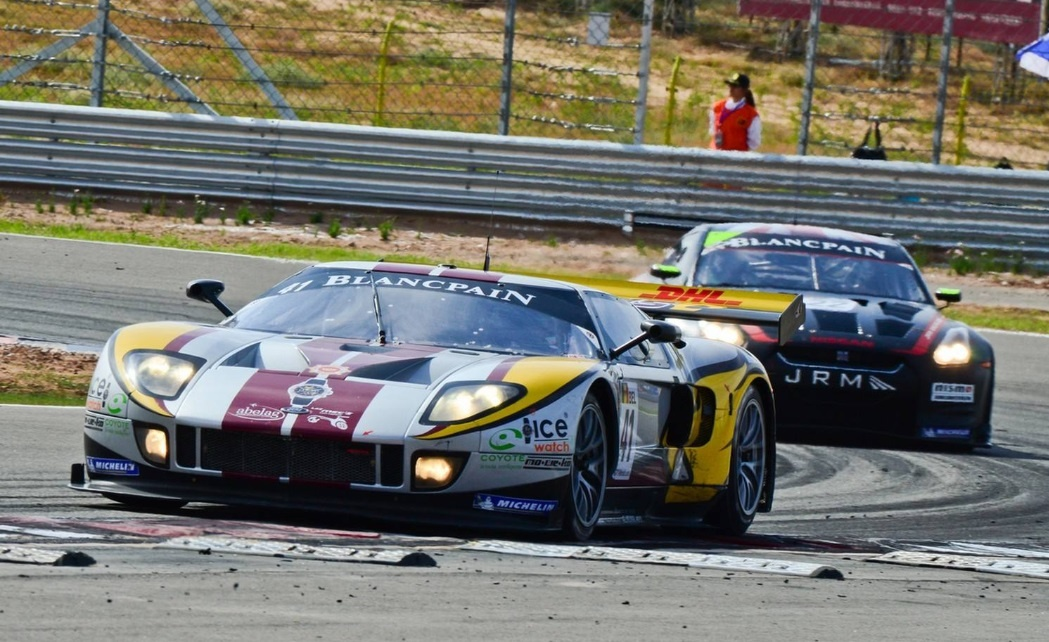racing car: (69, 231, 774, 555), (628, 210, 1016, 438)
